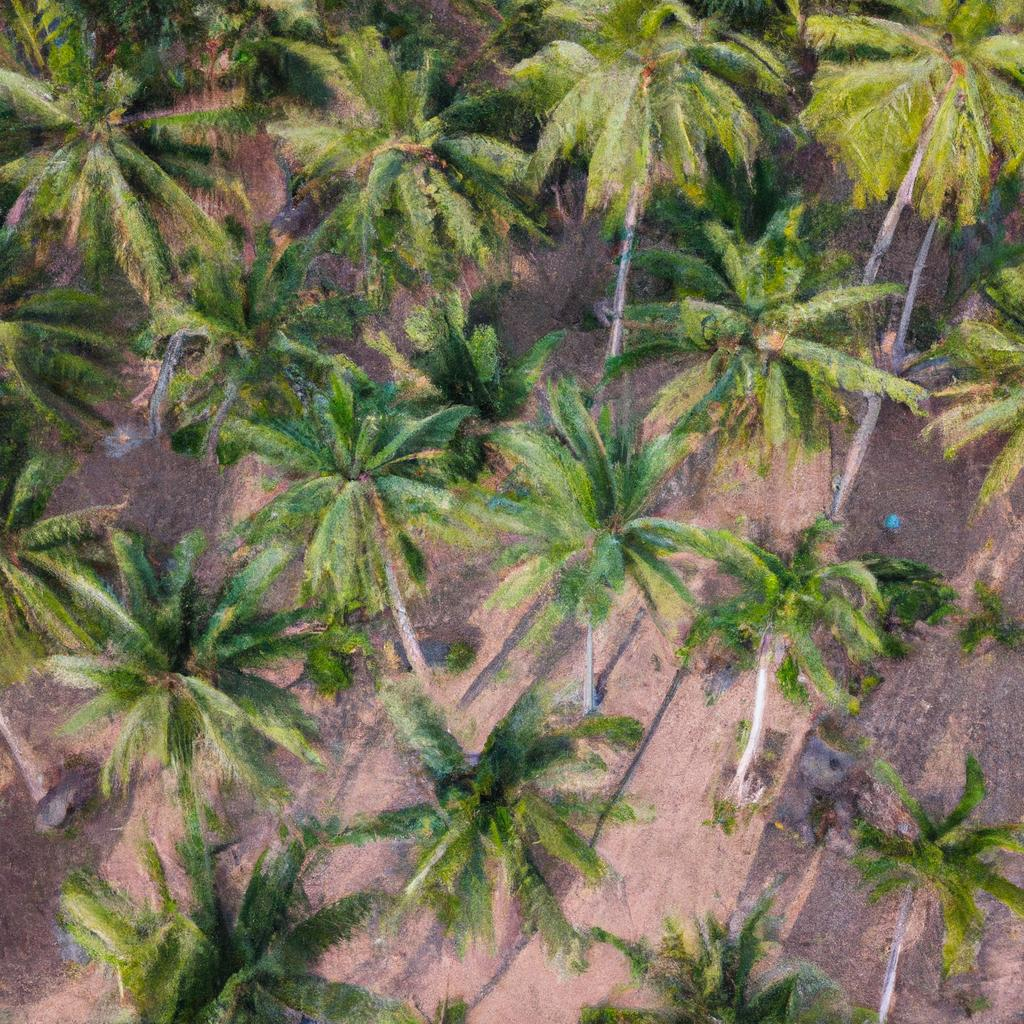coconut_tree: (587, 213, 932, 478), (192, 356, 512, 637), (352, 672, 659, 959), (49, 518, 362, 794), (262, 16, 544, 321), (468, 386, 773, 658), (0, 0, 265, 299), (627, 462, 944, 707), (505, 0, 778, 234), (800, 2, 1023, 224)
